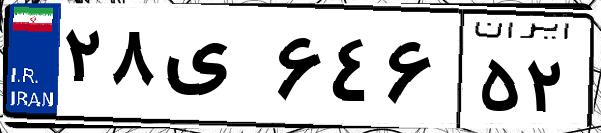2: (57, 26, 110, 100), (525, 38, 570, 115)
4: (330, 28, 385, 110)
5: (475, 38, 525, 113)
6: (270, 28, 330, 110), (385, 28, 445, 110)
8: (110, 28, 158, 98)
ی: (158, 20, 270, 120)
